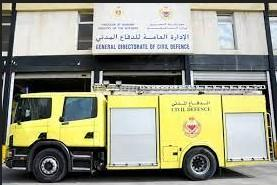firetruck_off: (5, 84, 273, 181)
